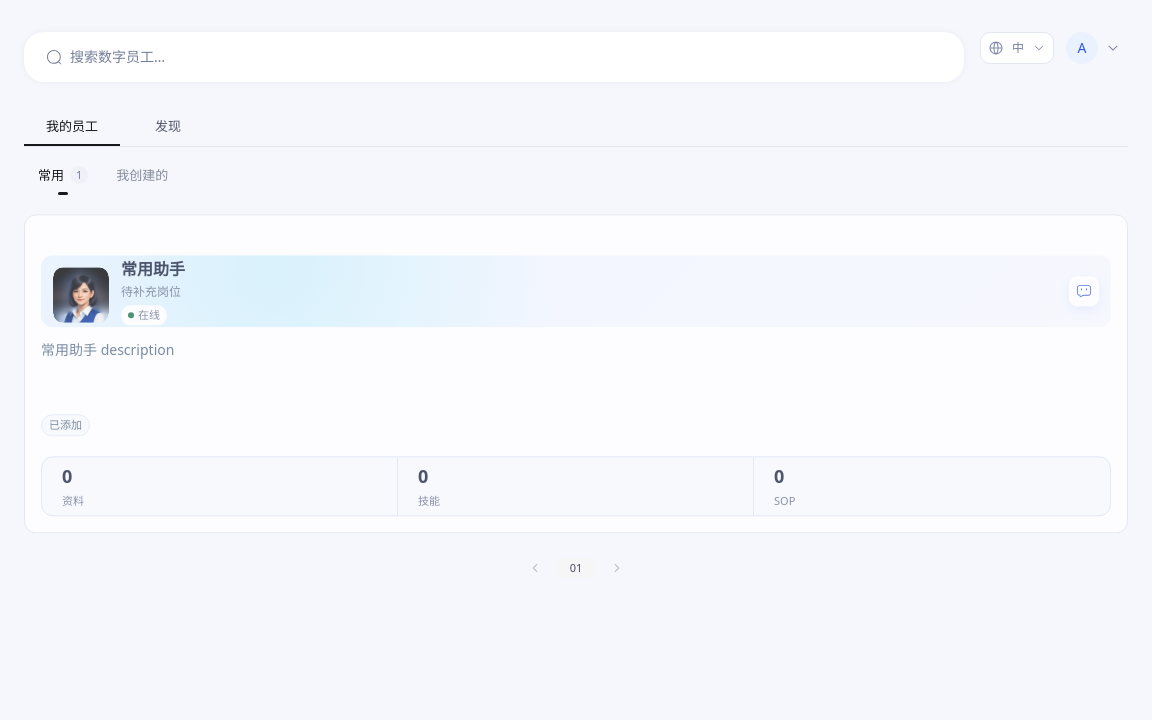
Test case: loads each relationship tab from its server-side page endpoint
Expected: the text "常用助手" is shown, [121,258,185,280]
Step 1. Click the tab "发现" → click(168, 128), box [120,110,216,146]
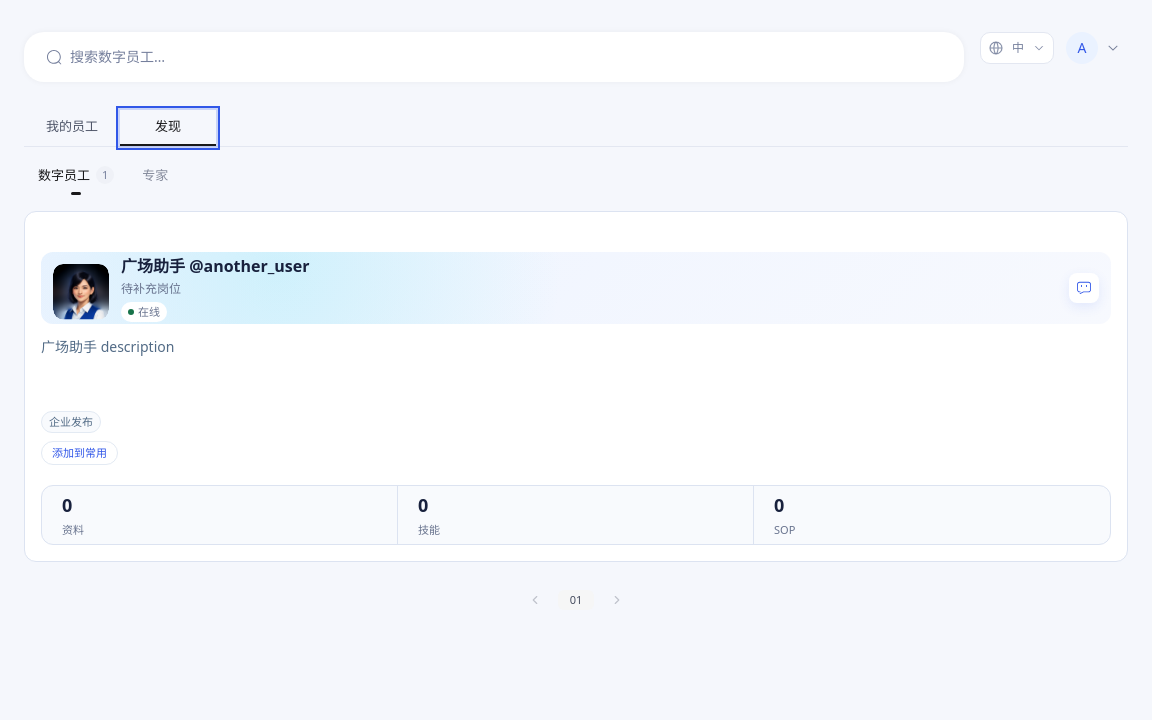
Now the button "广场助手" is shown, box [24,210,1128,562]
Now the button "常用助手" is gone
